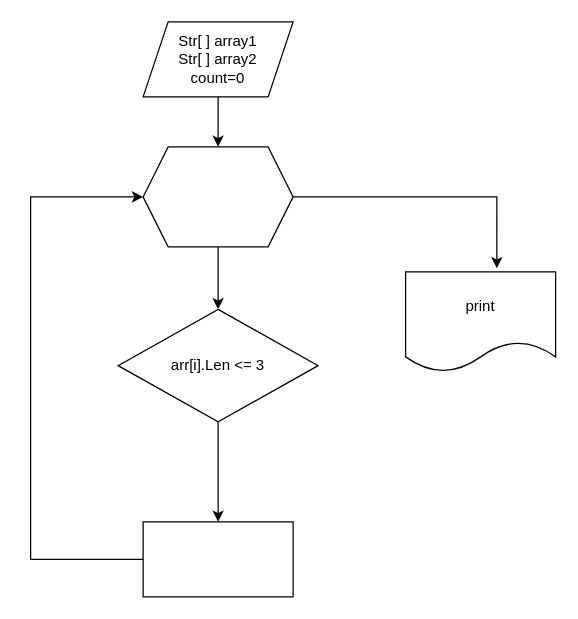
Some shapes in this 578 by 619 pixel diagram are drawn without their labels. Here are the shapes that lost their labels. From the top down, the centre of each, then its label:
At point 217,196: "int i = 0; i < arr1.Len; i++".
At point 217,559: "arr2 [count] = arr[i]; count++".
